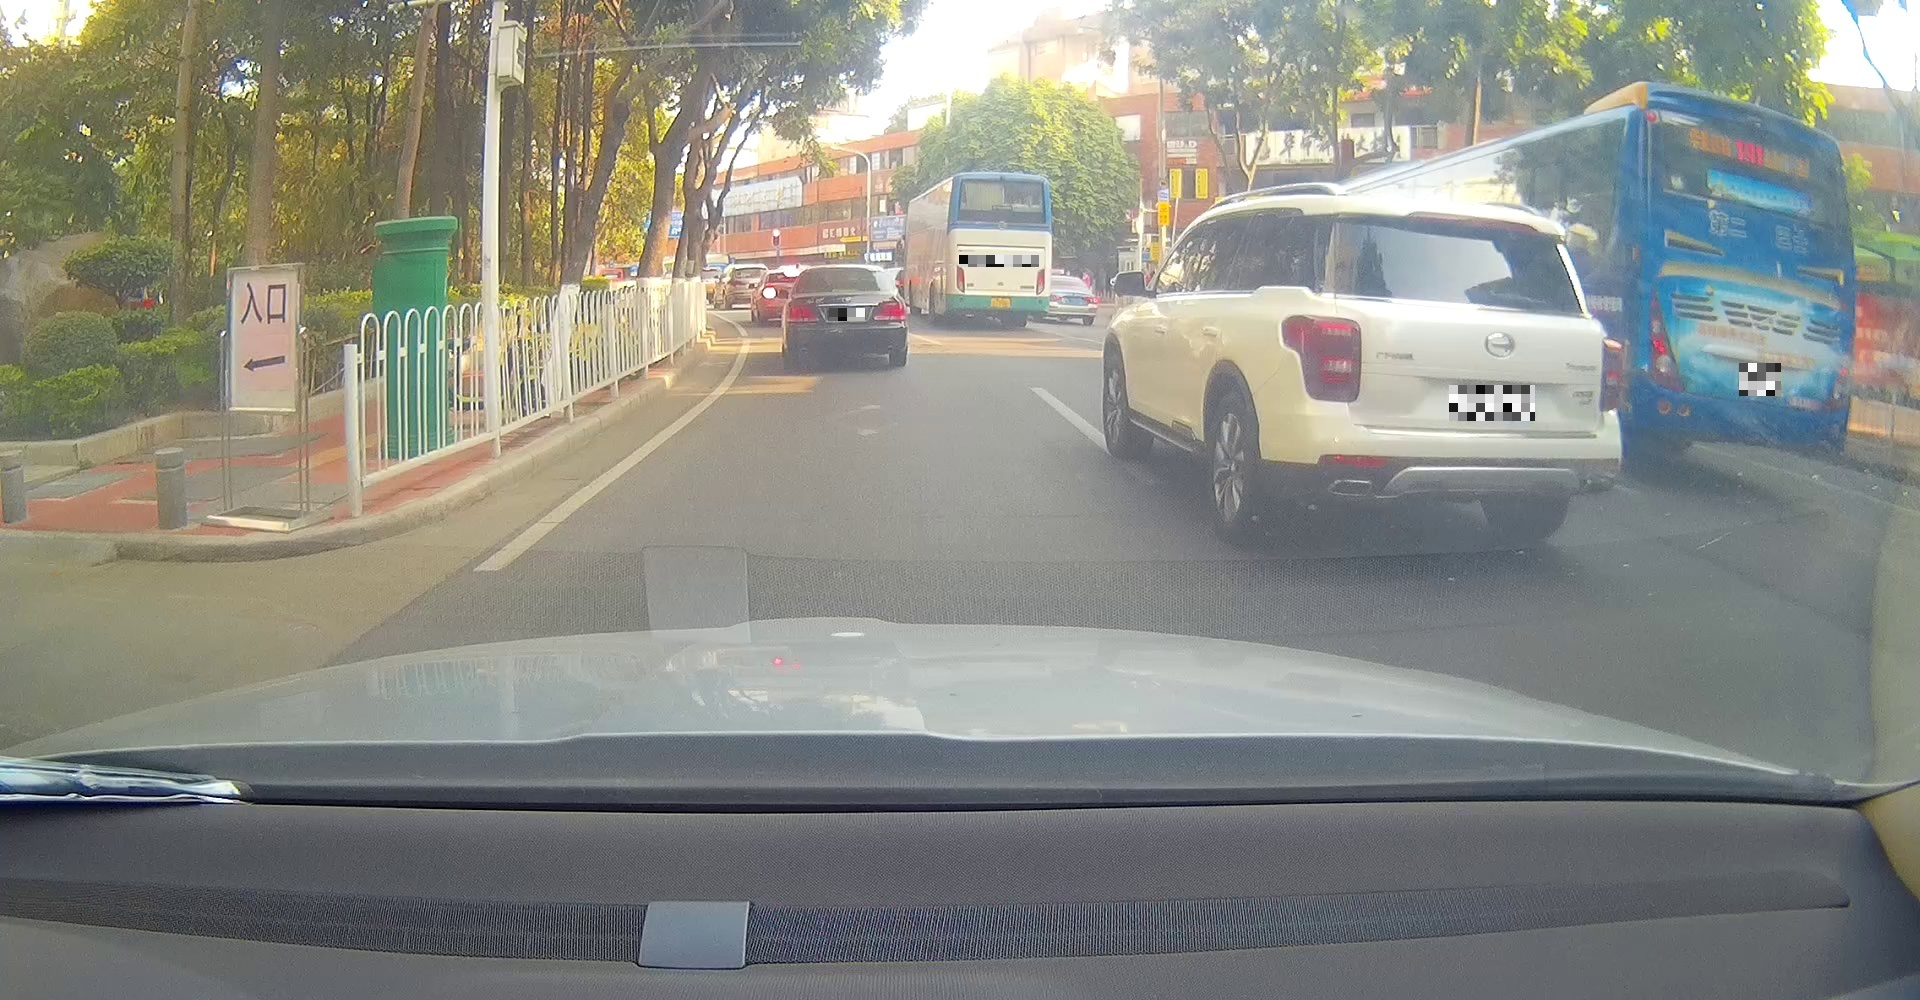L_light: (1281, 313, 1363, 402), (1648, 291, 1685, 393), (786, 306, 818, 322), (956, 265, 965, 293)
R_light: (1823, 325, 1857, 411), (1597, 338, 1623, 411), (874, 302, 904, 320), (1036, 268, 1046, 294), (830, 288, 858, 293)
T_light: (1408, 217, 1482, 232), (1733, 123, 1782, 142), (990, 206, 1013, 211)
day-no: (1279, 195, 1623, 543), (1642, 81, 1857, 470), (946, 173, 1051, 326), (785, 264, 905, 365)
plate_1: (829, 308, 865, 321)
plate_2: (959, 255, 1039, 266)
plate_3: (1449, 385, 1535, 421)
plate_4: (1738, 363, 1782, 396)
